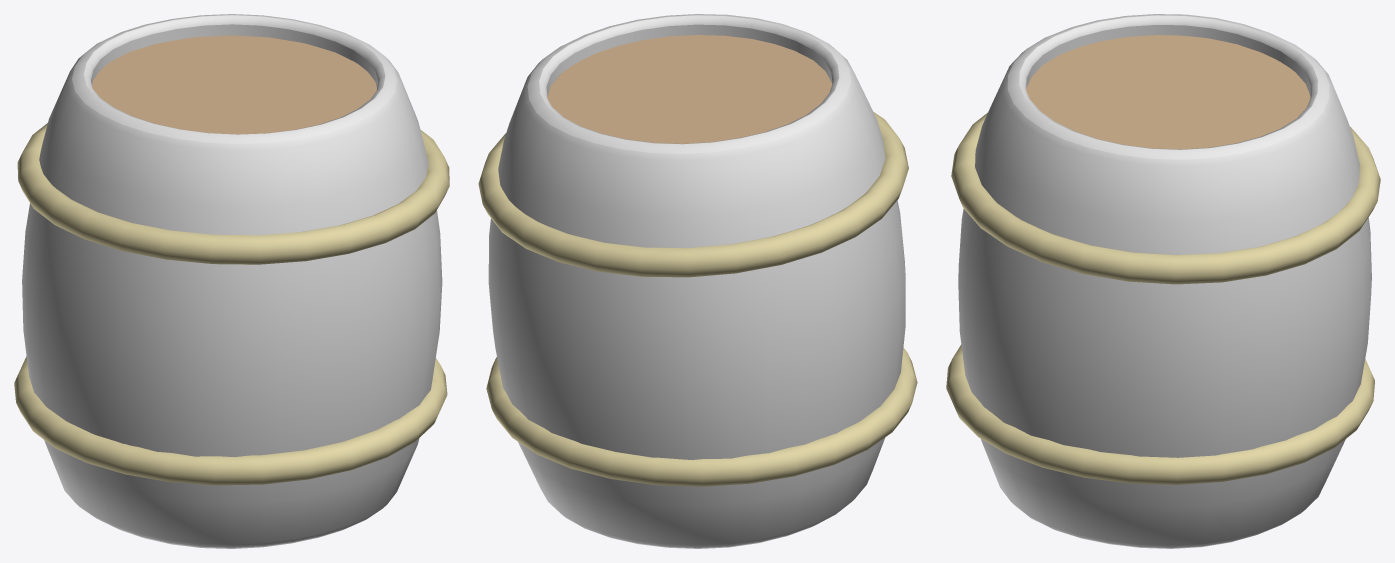
The model's file is pg_barrel_2.glb.
The picture shows the model from 3 angles, left to right: view 1: azimuth 30°, elevation 25°; view 2: azimuth 150°, elevation 25°; view 3: azimuth 270°, elevation 25°; orthographic projection.
Visible parts, largest first — view 1: pg_barrel_2_pg_stave, pg_barrel_2_bamboo, pg_barrel_2_plank; view 2: pg_barrel_2_pg_stave, pg_barrel_2_bamboo, pg_barrel_2_plank; view 3: pg_barrel_2_pg_stave, pg_barrel_2_bamboo, pg_barrel_2_plank.
Part boxes in pixels (left/top/right/bottom): pg_barrel_2_pg_stave: left=22, top=14, right=442, bottom=548; pg_barrel_2_bamboo: left=14, top=123, right=449, bottom=485; pg_barrel_2_plank: left=92, top=35, right=376, bottom=134; pg_barrel_2_pg_stave: left=488, top=14, right=905, bottom=548; pg_barrel_2_bamboo: left=478, top=112, right=917, bottom=486; pg_barrel_2_plank: left=547, top=35, right=831, bottom=143; pg_barrel_2_pg_stave: left=958, top=14, right=1371, bottom=548; pg_barrel_2_bamboo: left=946, top=112, right=1380, bottom=484; pg_barrel_2_plank: left=1026, top=35, right=1310, bottom=149.
Size of the model in its own units: 0.8307 by 0.8682 by 0.8288.
